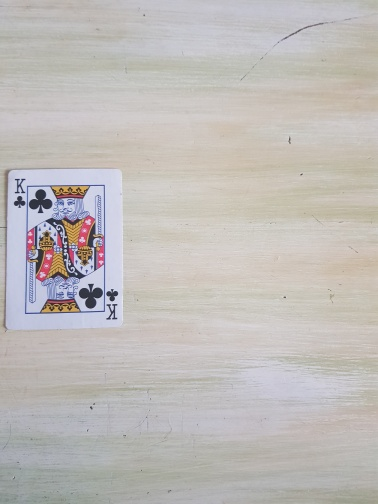king: (4, 166, 124, 331)
